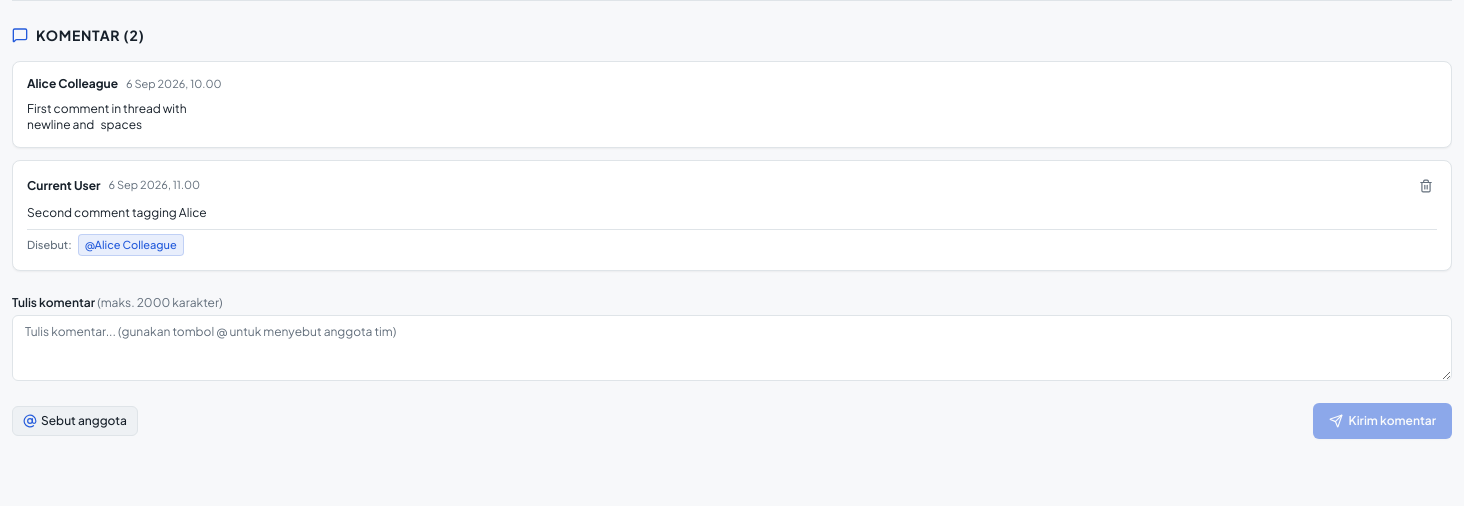
Test case: Phase 10 Task 9 — Task Comments & Structured Mentions UX › renders backend validation errors when mention target is invalid or cross-workspace
Expected: the text "First comment in thread with newline and spaces" is shown, [27,100,187,132]
Replace the text in the text box labelled "Tulis komentar (maks. 2000 karakter)" with "Tagging invalid user" at (732, 348), box [12,315,1452,381]
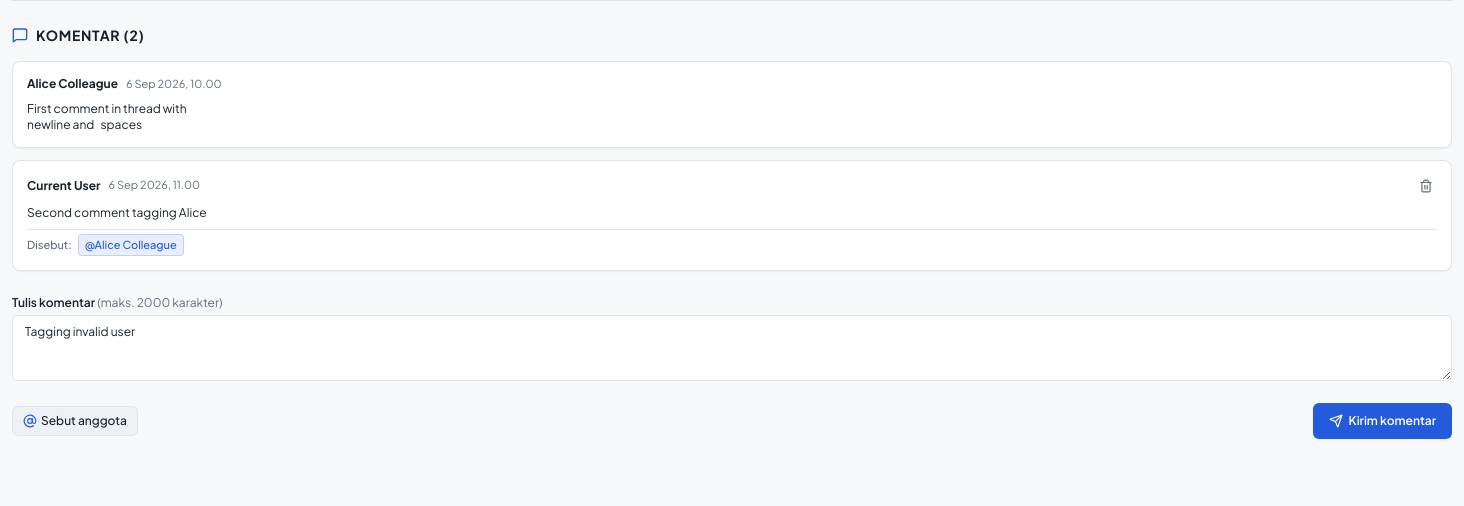
Click the button "Kirim komentar" at (1382, 421), box [1313,403,1452,439]
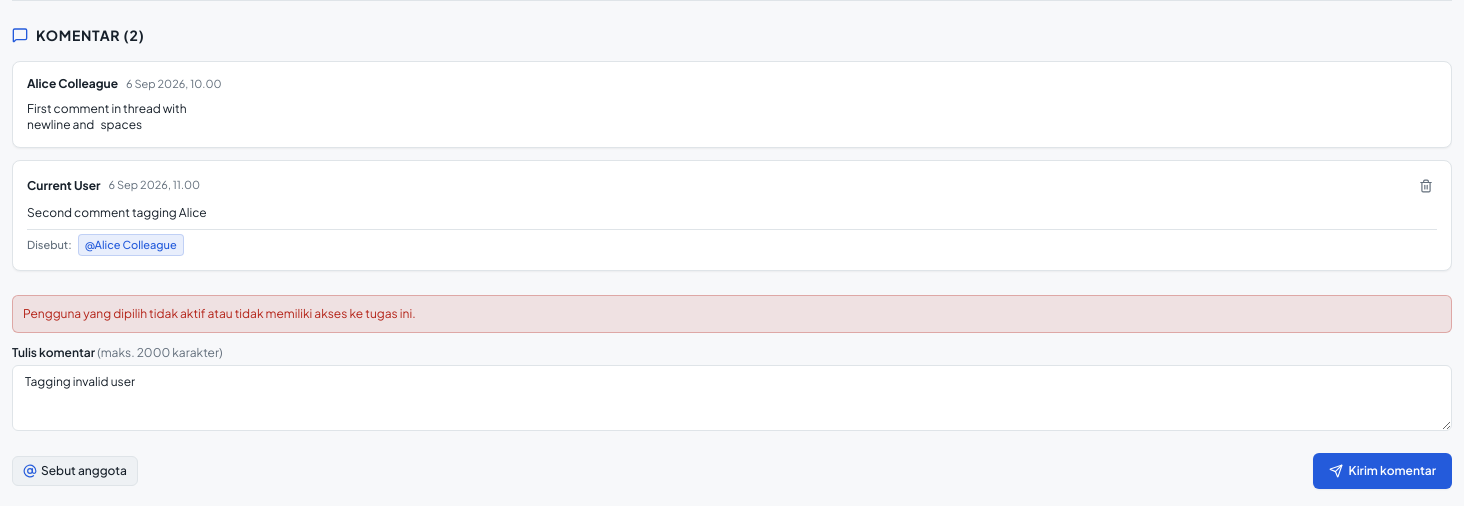
Expected: the text "Pengguna yang dipilih tidak aktif atau tidak memiliki akses ke tugas ini." is shown, [12,295,1452,333]
